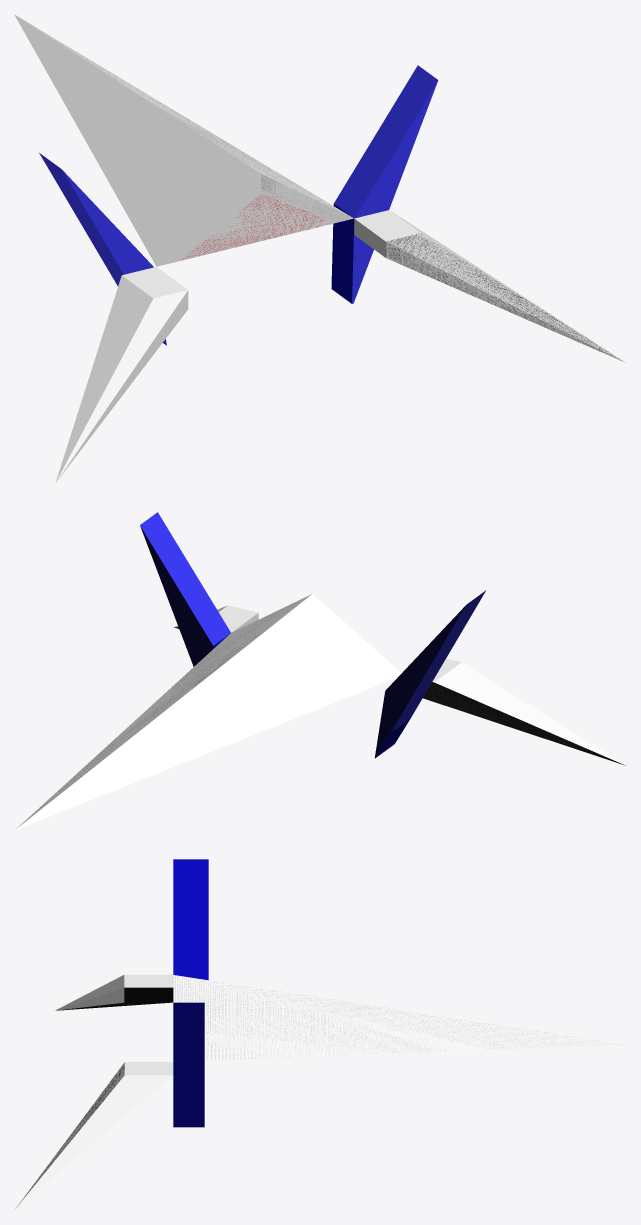
Rendered from arwing.dae.
The picture shows the model from 3 angles, top to bottom: view 1: azimuth 30°, elevation 25°; view 2: azimuth 150°, elevation 25°; view 3: azimuth 270°, elevation 25°; orthographic projection. The views are drawn at different scales.
Visible parts, largest first — view 1: group_0 (×11); view 2: group_0 (×9); view 3: group_0 (×7).
Part boxes in pixels (<box>): group_0 (×11): <box>14,14,625,482</box>; group_0 (×9): <box>14,512,625,830</box>; group_0 (×7): <box>15,859,625,1209</box>.
Bounding box in the file's own units: 338 × 427 × 141.
